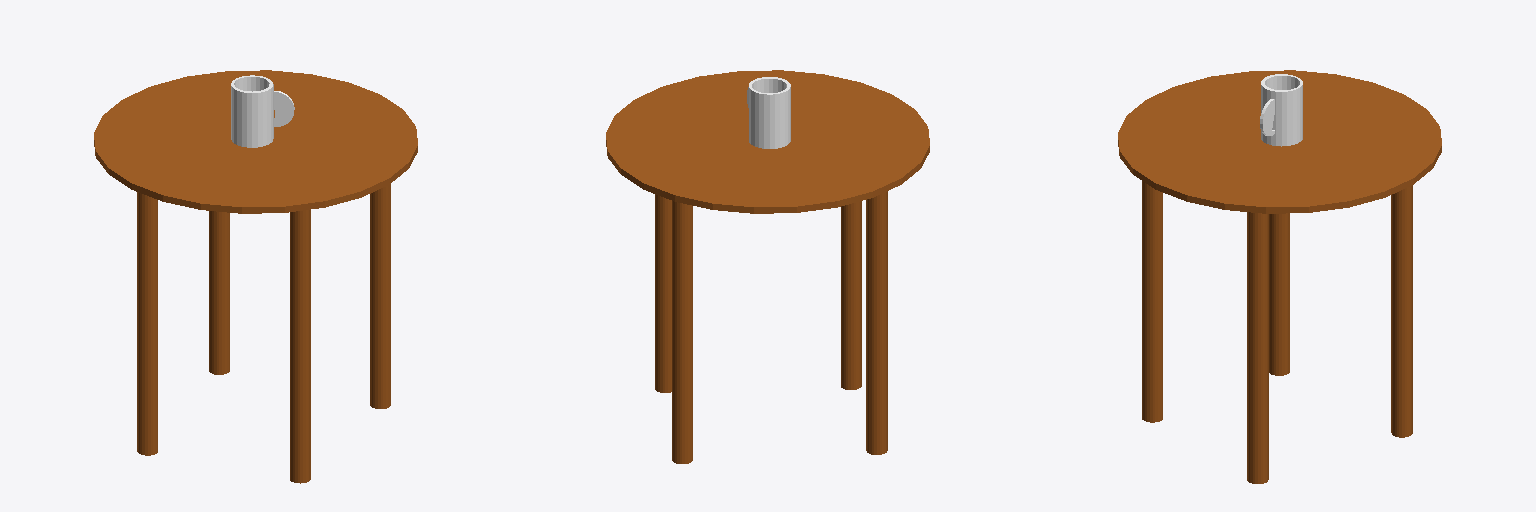
Rendered from LivingRoomLittleTable.obj.
3 renders of one model, left to right at view 1: azimuth 30°, elevation 25°; view 2: azimuth 150°, elevation 25°; view 3: azimuth 270°, elevation 25°, orthographic.
Parts seen in each view (by area): view 1: Mesh1 Simple_table1_1 Model; view 2: Mesh1 Simple_table1_1 Model; view 3: Mesh1 Simple_table1_1 Model.
Boxes of the visible parts, <box> form: Mesh1 Simple_table1_1 Model: <box>94,70,417,483</box>; Mesh1 Simple_table1_1 Model: <box>606,70,929,463</box>; Mesh1 Simple_table1_1 Model: <box>1118,70,1441,483</box>.
Size of the model in its own units: 0.9167 by 1.07 by 0.9167.